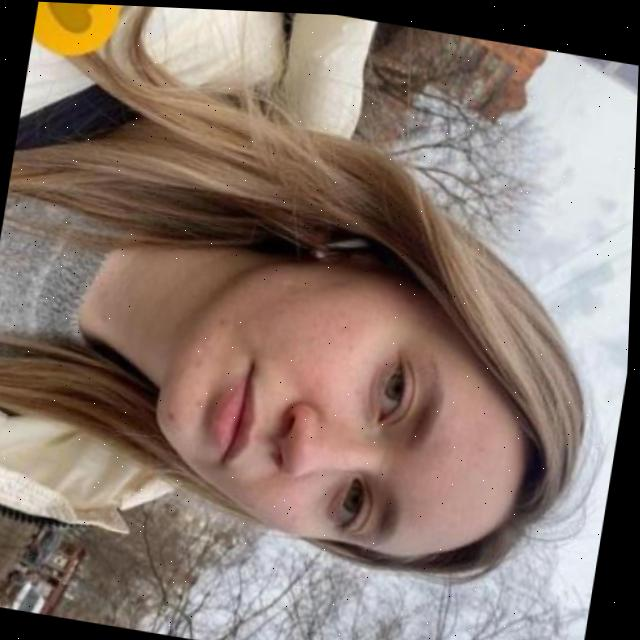Acne: (162, 310, 227, 427)
